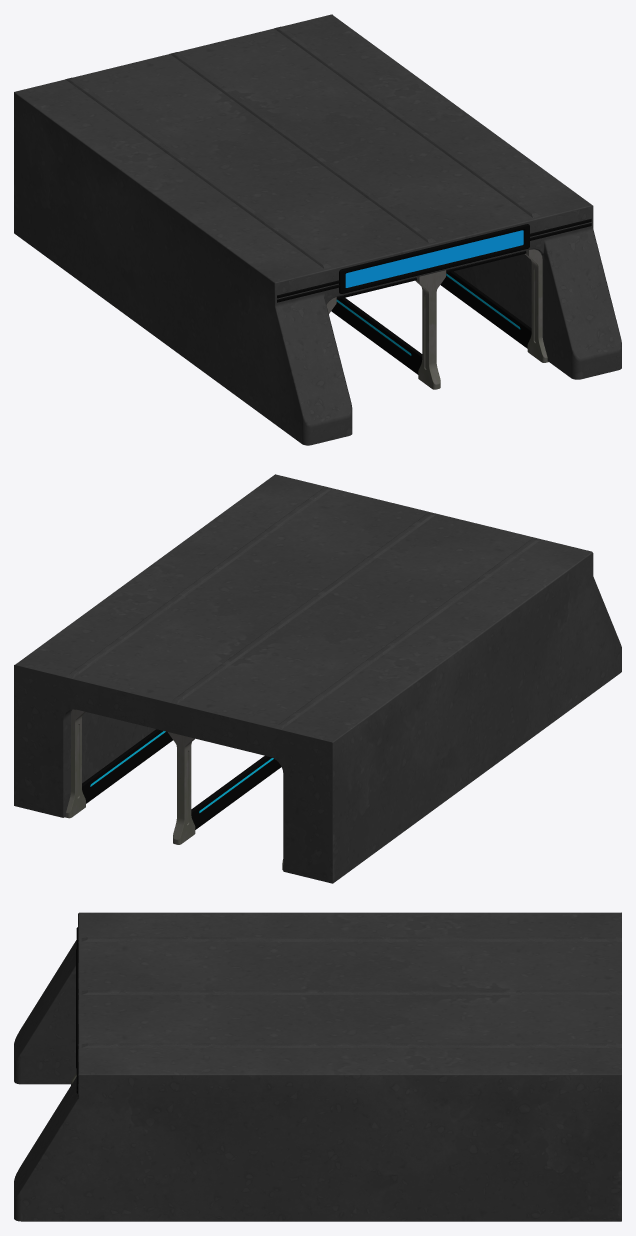
The model's file is Tunnel.gltf.
3 renders of one model, top to bottom at view 1: azimuth 30°, elevation 25°; view 2: azimuth 150°, elevation 25°; view 3: azimuth 270°, elevation 25°, orthographic. The views are drawn at different scales.
Parts seen in each view (by area): view 1: SM_Tunnel; view 2: SM_Tunnel; view 3: SM_Tunnel.
Boxes of the visible parts, <box> form: SM_Tunnel: <box>14,14,621,445</box>; SM_Tunnel: <box>14,474,621,883</box>; SM_Tunnel: <box>14,912,621,1221</box>.
Bounding box in the file's own units: 18 × 7.78 × 28.5.
